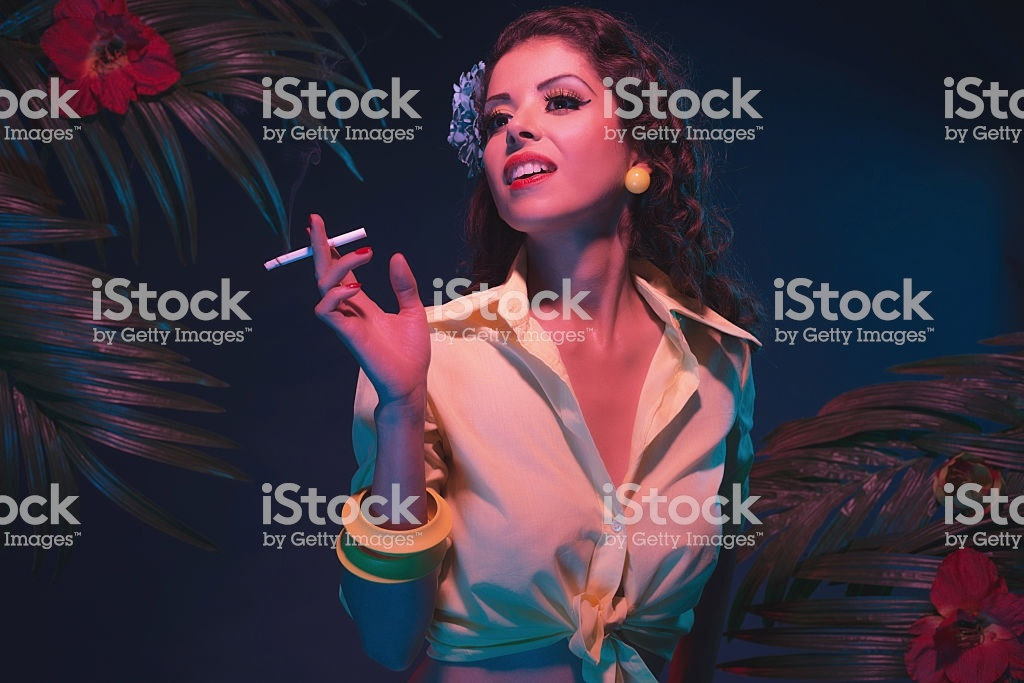sigaretta: (264, 224, 373, 269)
